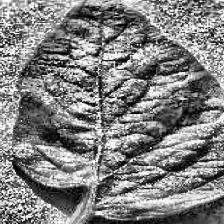spider mites: (14, 0, 224, 220)
